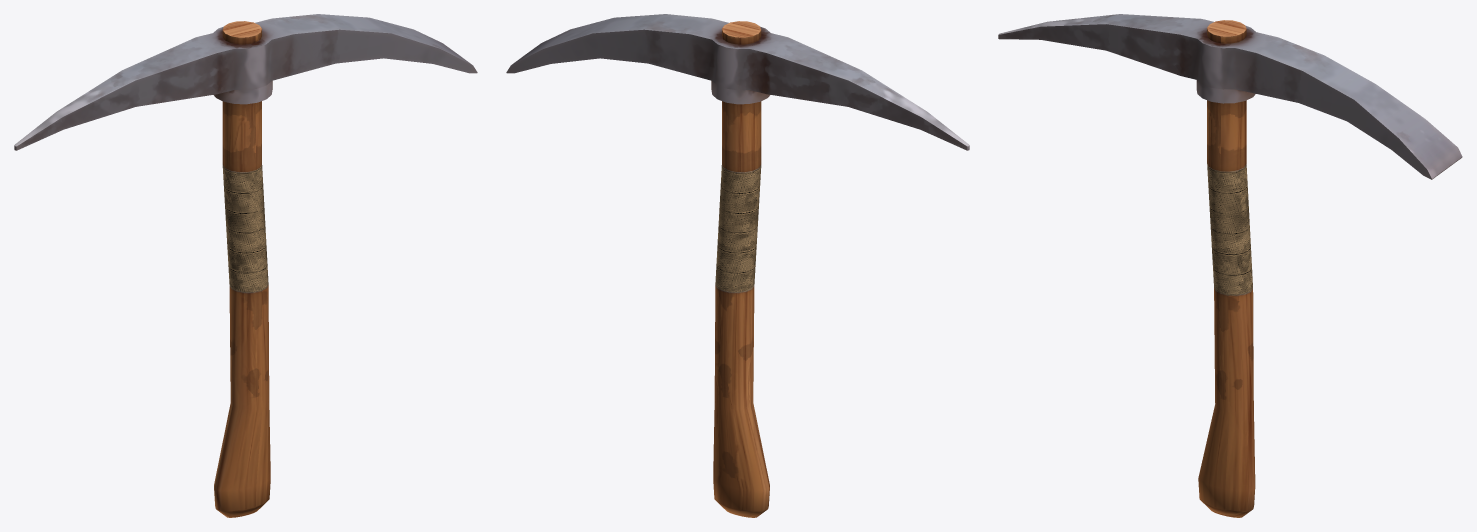
File: Tools01_4.FBX
3 renders of one model, left to right at view 1: azimuth 30°, elevation 25°; view 2: azimuth 150°, elevation 25°; view 3: azimuth 330°, elevation 25°, orthographic.
Parts seen in each view (by area): view 1: Tools01_4; view 2: Tools01_4; view 3: Tools01_4.
Boxes of the visible parts, x1=… form: Tools01_4: x1=14, y1=14, x2=477, y2=517; Tools01_4: x1=506, y1=14, x2=969, y2=517; Tools01_4: x1=998, y1=14, x2=1462, y2=517.
Size of what is drawn, in the model's own units: 0.7644 by 0.7902 by 0.0902.
